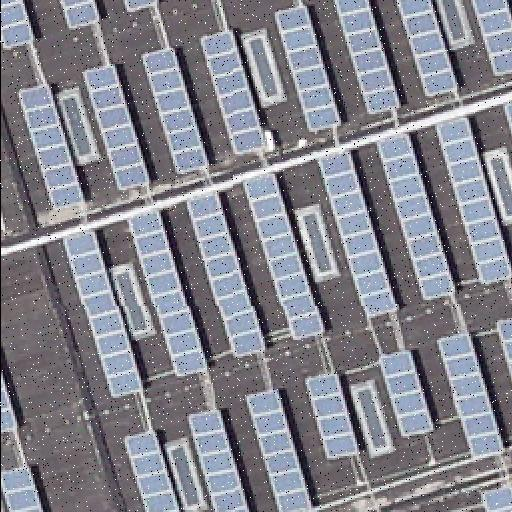solar-panel: (314, 150, 398, 322), (372, 135, 456, 305), (60, 232, 144, 400), (126, 210, 210, 378), (243, 172, 325, 344), (432, 116, 512, 288), (183, 193, 265, 359), (269, 4, 339, 136), (436, 329, 504, 463), (81, 63, 151, 193), (141, 47, 211, 177), (199, 27, 265, 157), (330, 0, 402, 116), (19, 85, 85, 211), (247, 388, 313, 512), (392, 0, 460, 96), (189, 408, 251, 512), (374, 351, 434, 441), (122, 425, 182, 511), (302, 375, 358, 465), (472, 1, 512, 79), (0, 465, 44, 511), (1, 0, 39, 52), (58, 0, 102, 32), (492, 317, 512, 387), (0, 373, 20, 435), (480, 484, 512, 512), (121, 0, 159, 16), (500, 101, 512, 139)
